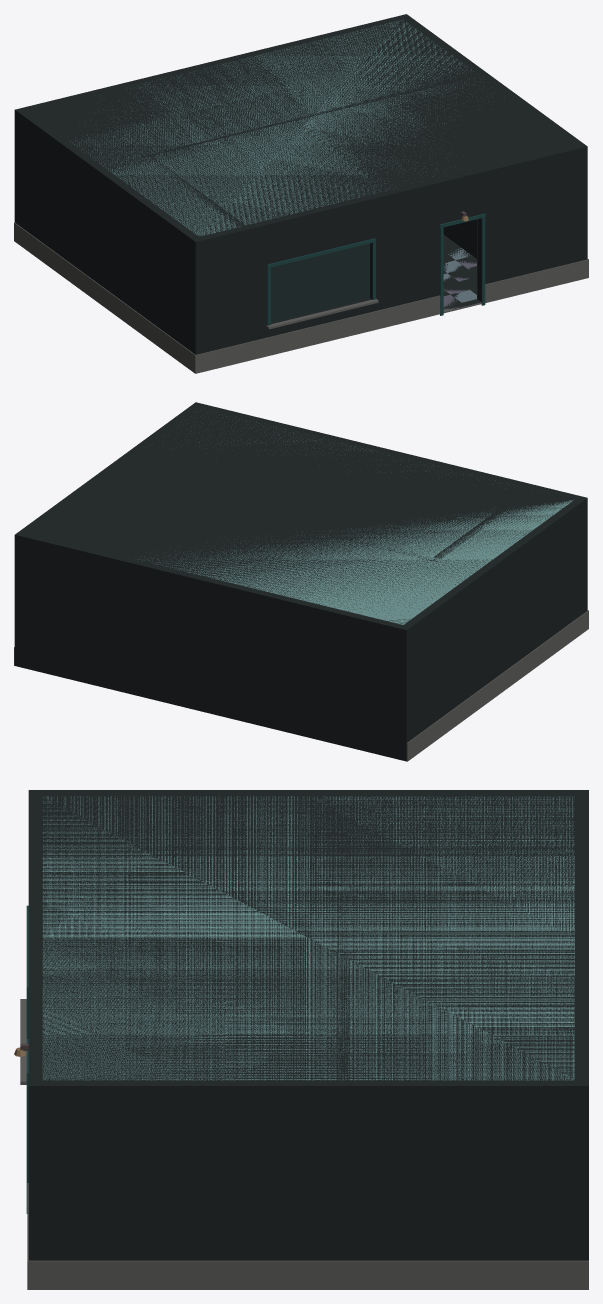
The model's file is magazin_sat.glb.
The picture shows the model from 3 angles, top to bottom: view 1: azimuth 30°, elevation 25°; view 2: azimuth 150°, elevation 25°; view 3: azimuth 270°, elevation 25°; orthographic projection. The views are drawn at different scales.
Parts seen in each view (by area): view 1: Coliziune, Magazin, Geamuri; view 2: Coliziune, Magazin; view 3: Coliziune, Magazin.
Part boxes in pixels (x1,y1,x2,y2): Coliziune: (14, 14, 587, 354); Magazin: (14, 19, 588, 373); Geamuri: (271, 243, 369, 322); Coliziune: (14, 402, 587, 761); Magazin: (14, 416, 588, 761); Coliziune: (28, 790, 588, 1260); Magazin: (20, 796, 588, 1289).
Bounding box in the file's own units: 10.04 × 3.24 × 8.21.
